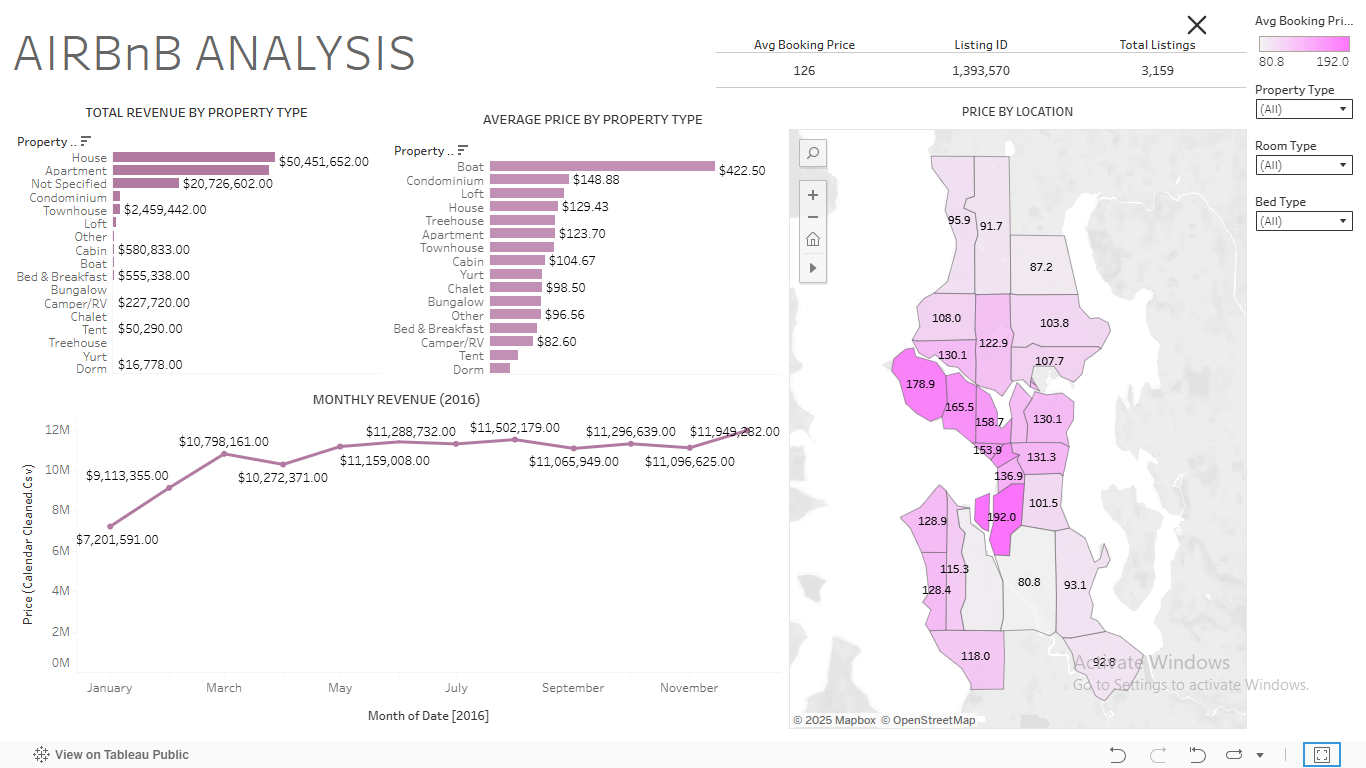

This screenshot's page, from the dashboard's own definition file:
{"tool":"tableau","page":{"name":"Dashboard 1","canvas":[1000,1000],"units":"permille","ordinal":0},"visuals":[{"type":"text","box":[6.9,13.5,426.8,141.9]},{"type":"worksheet","title":"KPI","mark":"Automatic","box":[433.8,13.5,466.7,141.9]},{"type":"dashboard-object","box":[865.8,13.5,20.8,40.5]},{"type":"legend","title":" PRICE BY LOCATION ","param":"[federated.1ricwzw1a3usxc1bt0d8d0r46coj].[usr:Calculation_353251110989434882:qk]","box":[900.4,13.5,92.6,109.8]},{"type":"filter","title":"KPI","param":"[federated.1ricwzw1a3usxc1bt0d8d0r46coj].[none:property_type:nk]","box":[900.4,123.3,92.6,87.8]},{"type":"worksheet","title":"TOTAL REVENUE BY PROPERTY TYPE","mark":"Automatic","rows":["property_type"],"cols":["price (calendar_cleaned.csv)"],"box":[6.9,155.4,326.4,484.8]},{"type":"worksheet","title":"AVERAGE PRICE BY PROPERTY TYPE","mark":"Automatic","rows":["property_type"],"cols":["Calculation_353251110989434882"],"box":[333.3,155.4,346.3,484.8]},{"type":"worksheet","title":" PRICE BY LOCATION ","mark":"Automatic","box":[679.7,155.4,220.8,831.1]},{"type":"filter","title":"KPI","param":"[federated.1ricwzw1a3usxc1bt0d8d0r46coj].[none:room_type:nk]","box":[900.4,211.1,92.6,87.8]},{"type":"filter","title":"KPI","param":"[federated.1ricwzw1a3usxc1bt0d8d0r46coj].[none:bed_type:nk]","box":[900.4,299,92.6,87.8]},{"type":"worksheet","title":"MONTHLY REVENUE (2016)","mark":"Automatic","rows":["price (calendar_cleaned.csv)"],"cols":["date"],"box":[6.9,640.2,672.7,346.3]}]}

Visuals, with their boxes on the dashboard's canvas, which has no fixed pixel size, in thousandths of its width and height (x1, y1, x2, y2). These are canvas units, not pixel positions in the 1366x768 screenshot, which may show the page scaled, cropped or inside an application window:
text: [x1=7, y1=14, x2=434, y2=155]
"KPI" worksheet: [x1=434, y1=14, x2=900, y2=155]
dashboard-object: [x1=866, y1=14, x2=887, y2=54]
" PRICE BY LOCATION " legend: [x1=900, y1=14, x2=993, y2=123]
"KPI" filter: [x1=900, y1=123, x2=993, y2=211]
"TOTAL REVENUE BY PROPERTY TYPE" worksheet: [x1=7, y1=155, x2=333, y2=640]
"AVERAGE PRICE BY PROPERTY TYPE" worksheet: [x1=333, y1=155, x2=680, y2=640]
" PRICE BY LOCATION " worksheet: [x1=680, y1=155, x2=900, y2=986]
"KPI" filter: [x1=900, y1=211, x2=993, y2=299]
"KPI" filter: [x1=900, y1=299, x2=993, y2=387]
"MONTHLY REVENUE (2016)" worksheet: [x1=7, y1=640, x2=680, y2=986]
